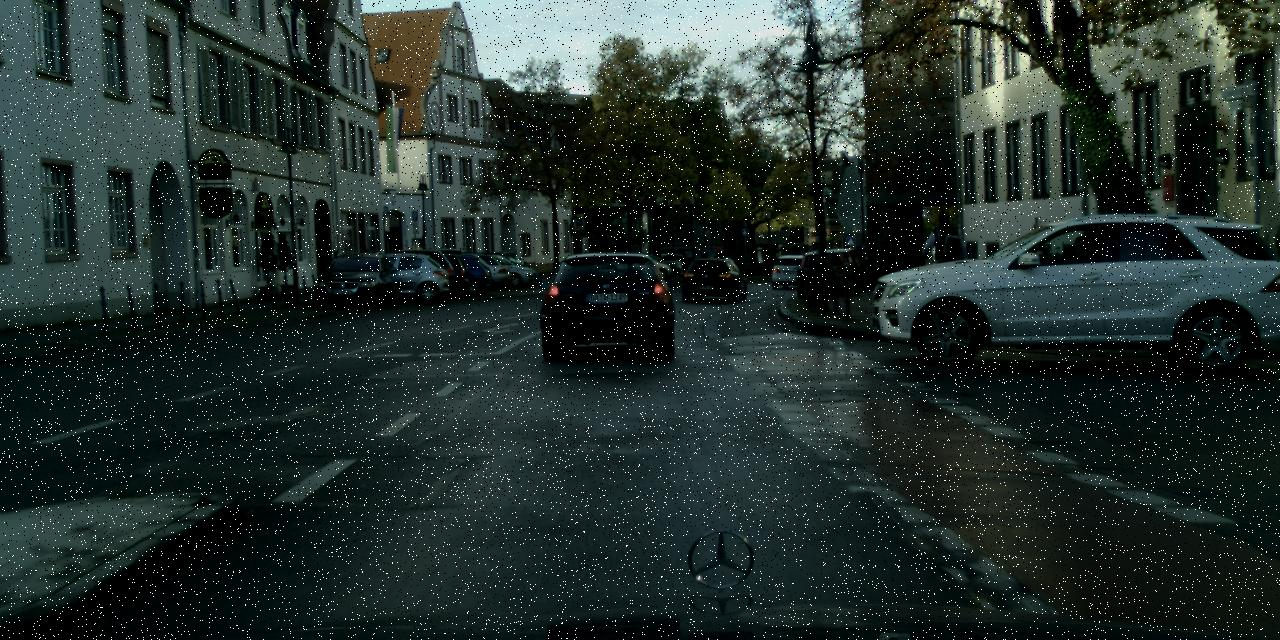ped: (924, 211, 964, 313)
